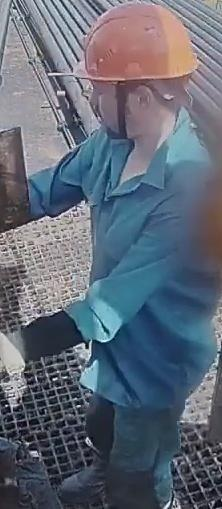gloves: (0, 314, 74, 373)
helmet: (72, 0, 198, 82)
vest: (72, 124, 217, 406)
